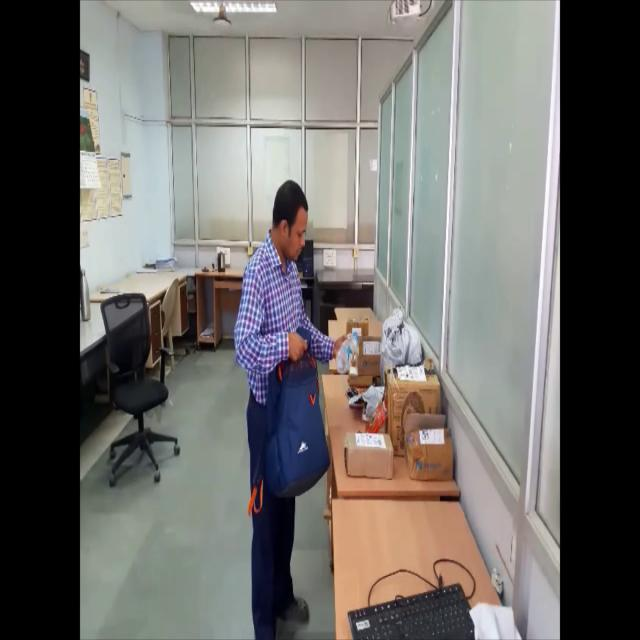shoplifting: (232, 167, 349, 640)
